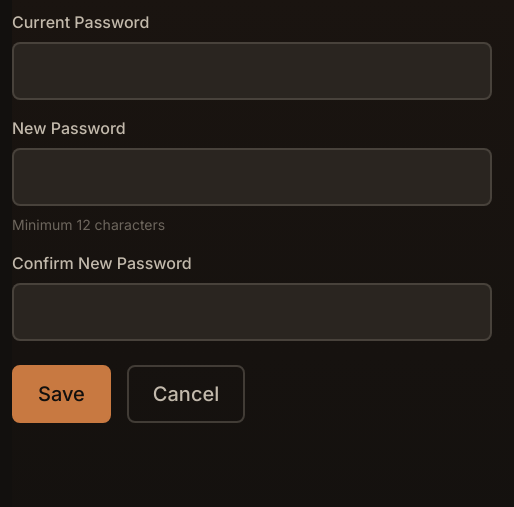
Test: ChangePasswordForm validation › shows error when passwords do not match
Type "oldpassword" into the password field labelled "Current Password" at {"x": 252, "y": 71}, box x1=12 y1=42 x2=492 y2=100
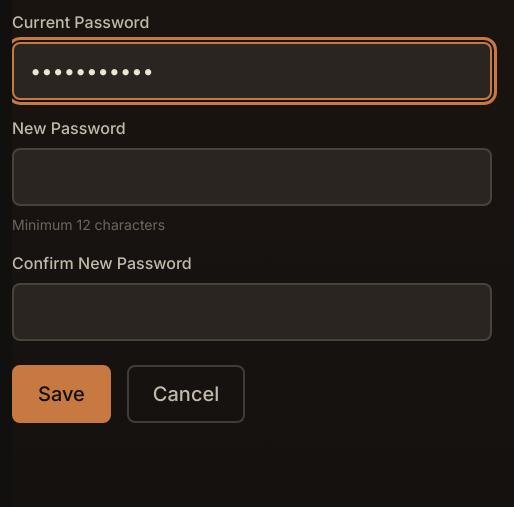
Type "validpassword123" into the password field labelled "New Password" at {"x": 252, "y": 177}, box x1=12 y1=148 x2=492 y2=206
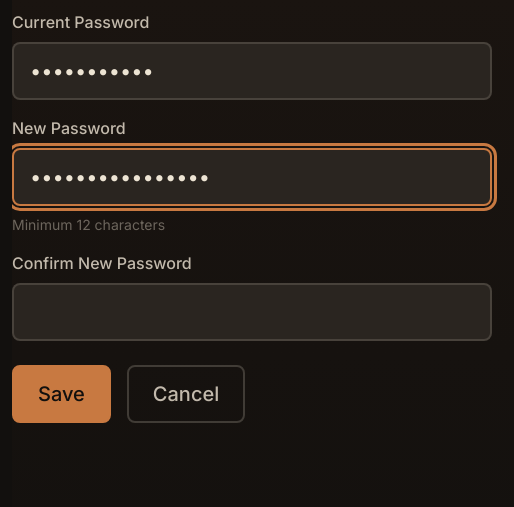
Type "doesnotmatch123" into the password field labelled "Confirm New Password" at {"x": 252, "y": 312}, box x1=12 y1=283 x2=492 y2=341
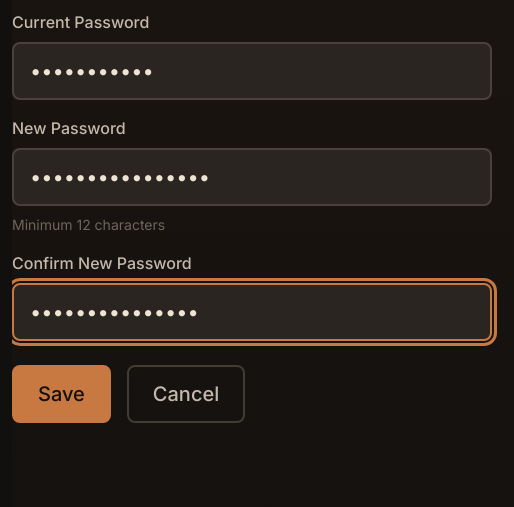
Click the button "Save" at {"x": 61, "y": 394}, box x1=12 y1=365 x2=111 y2=423
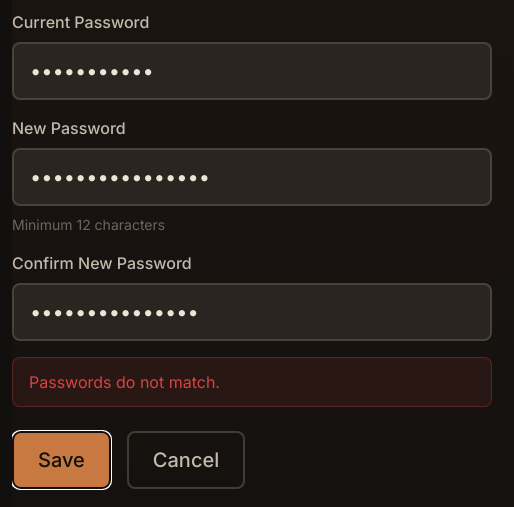
Now the text "Passwords do not match." is shown, box x1=12 y1=357 x2=492 y2=407
